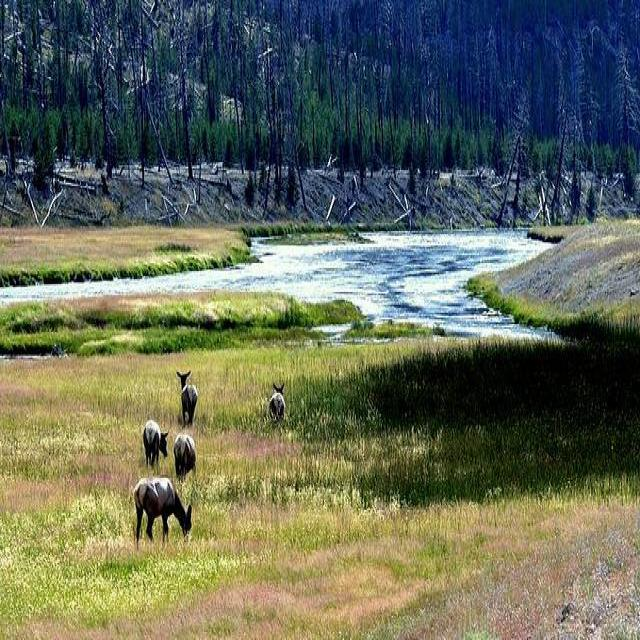Sheep: (134, 475, 192, 550)
